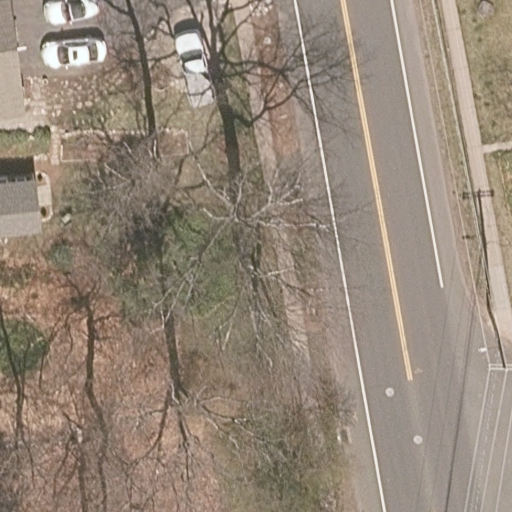DT: (482, 297, 508, 370)
